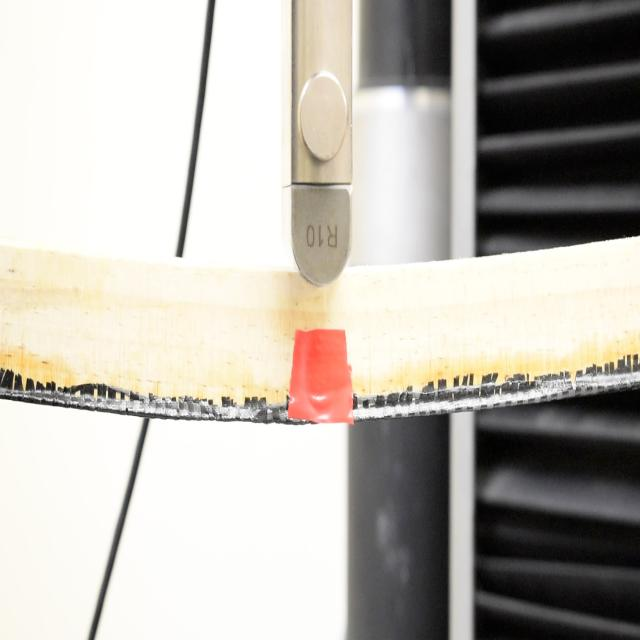wood: (1, 247, 638, 430)
